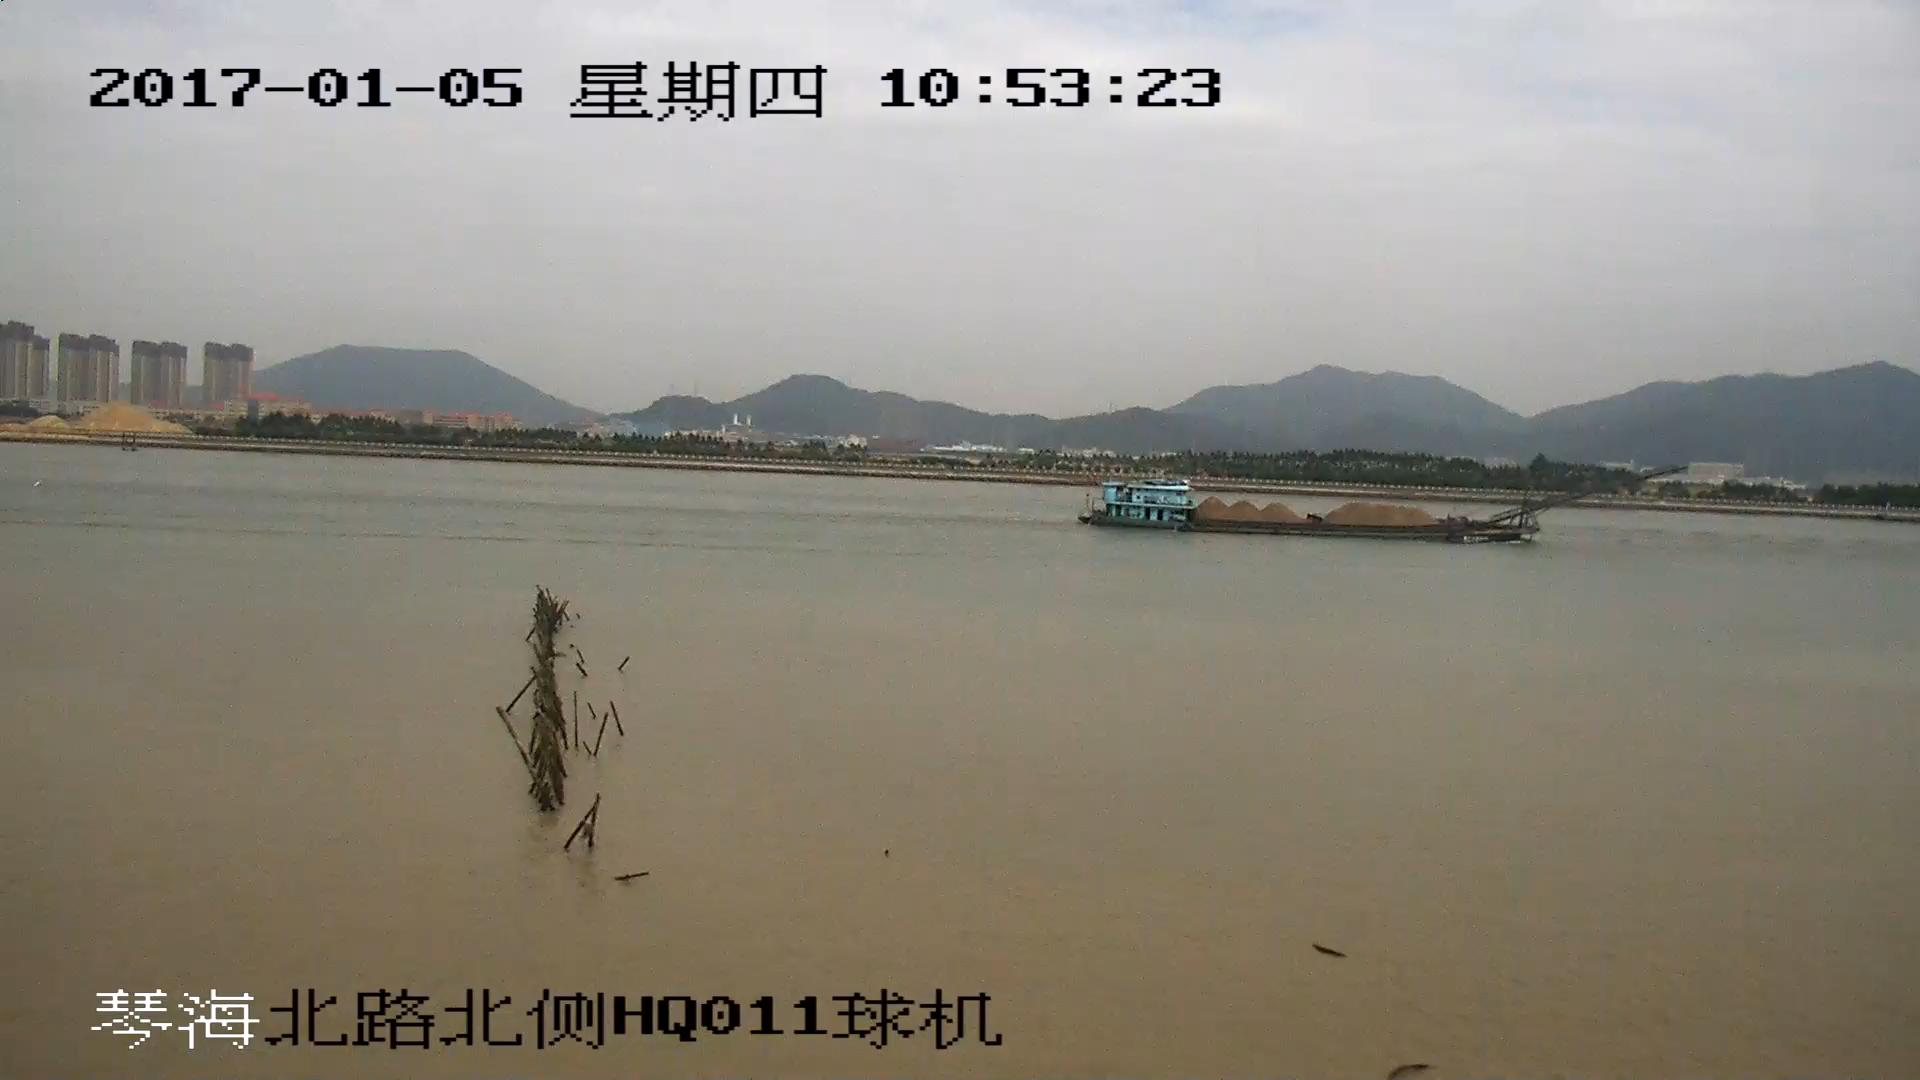ore carrier: (1086, 468, 1682, 542)
